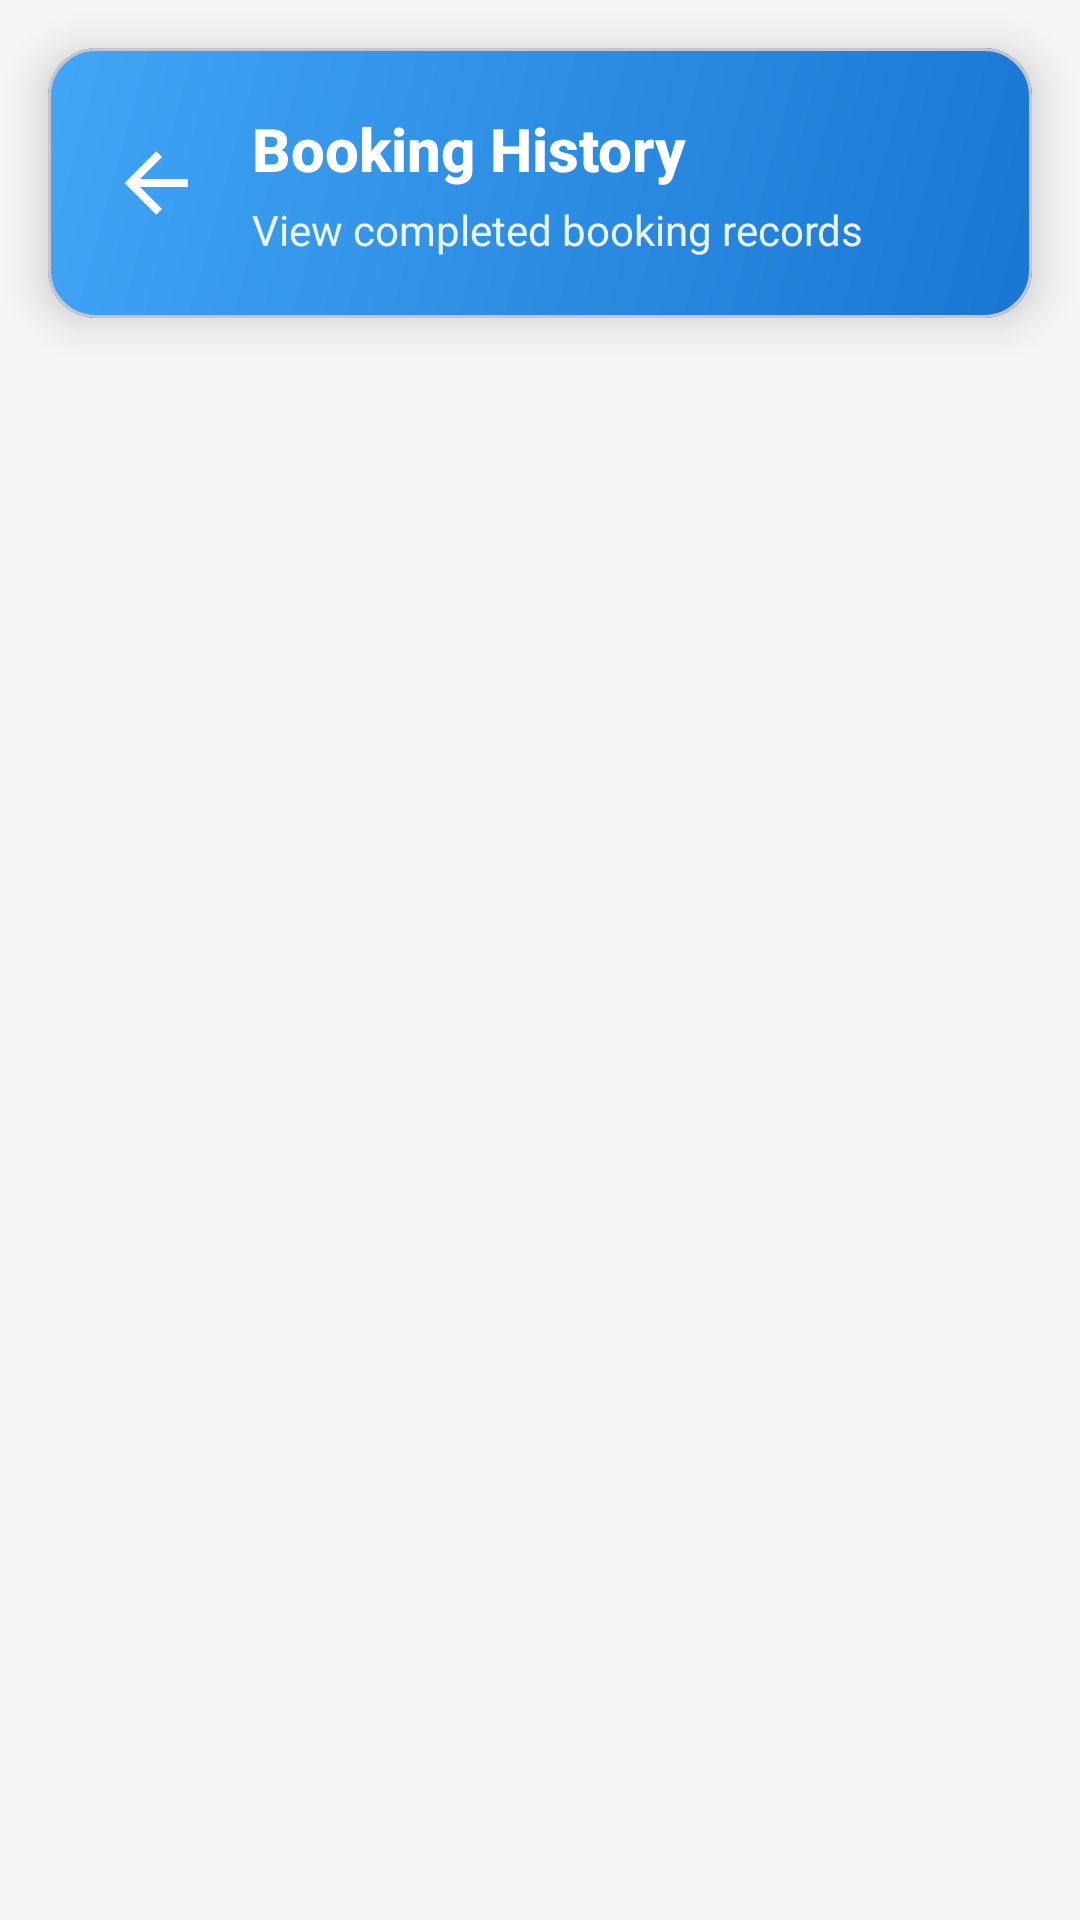

Point at icon controls on the screen. Image size 1080 x 1920, points as (x=x, y=y).
arrow back: (x=156, y=183)
